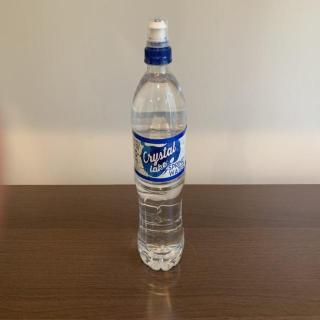Plastic-bottle: (130, 14, 192, 275)
